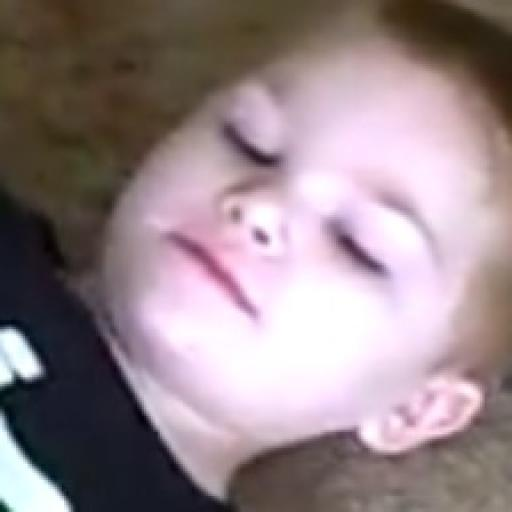Autism: (106, 33, 512, 459)
